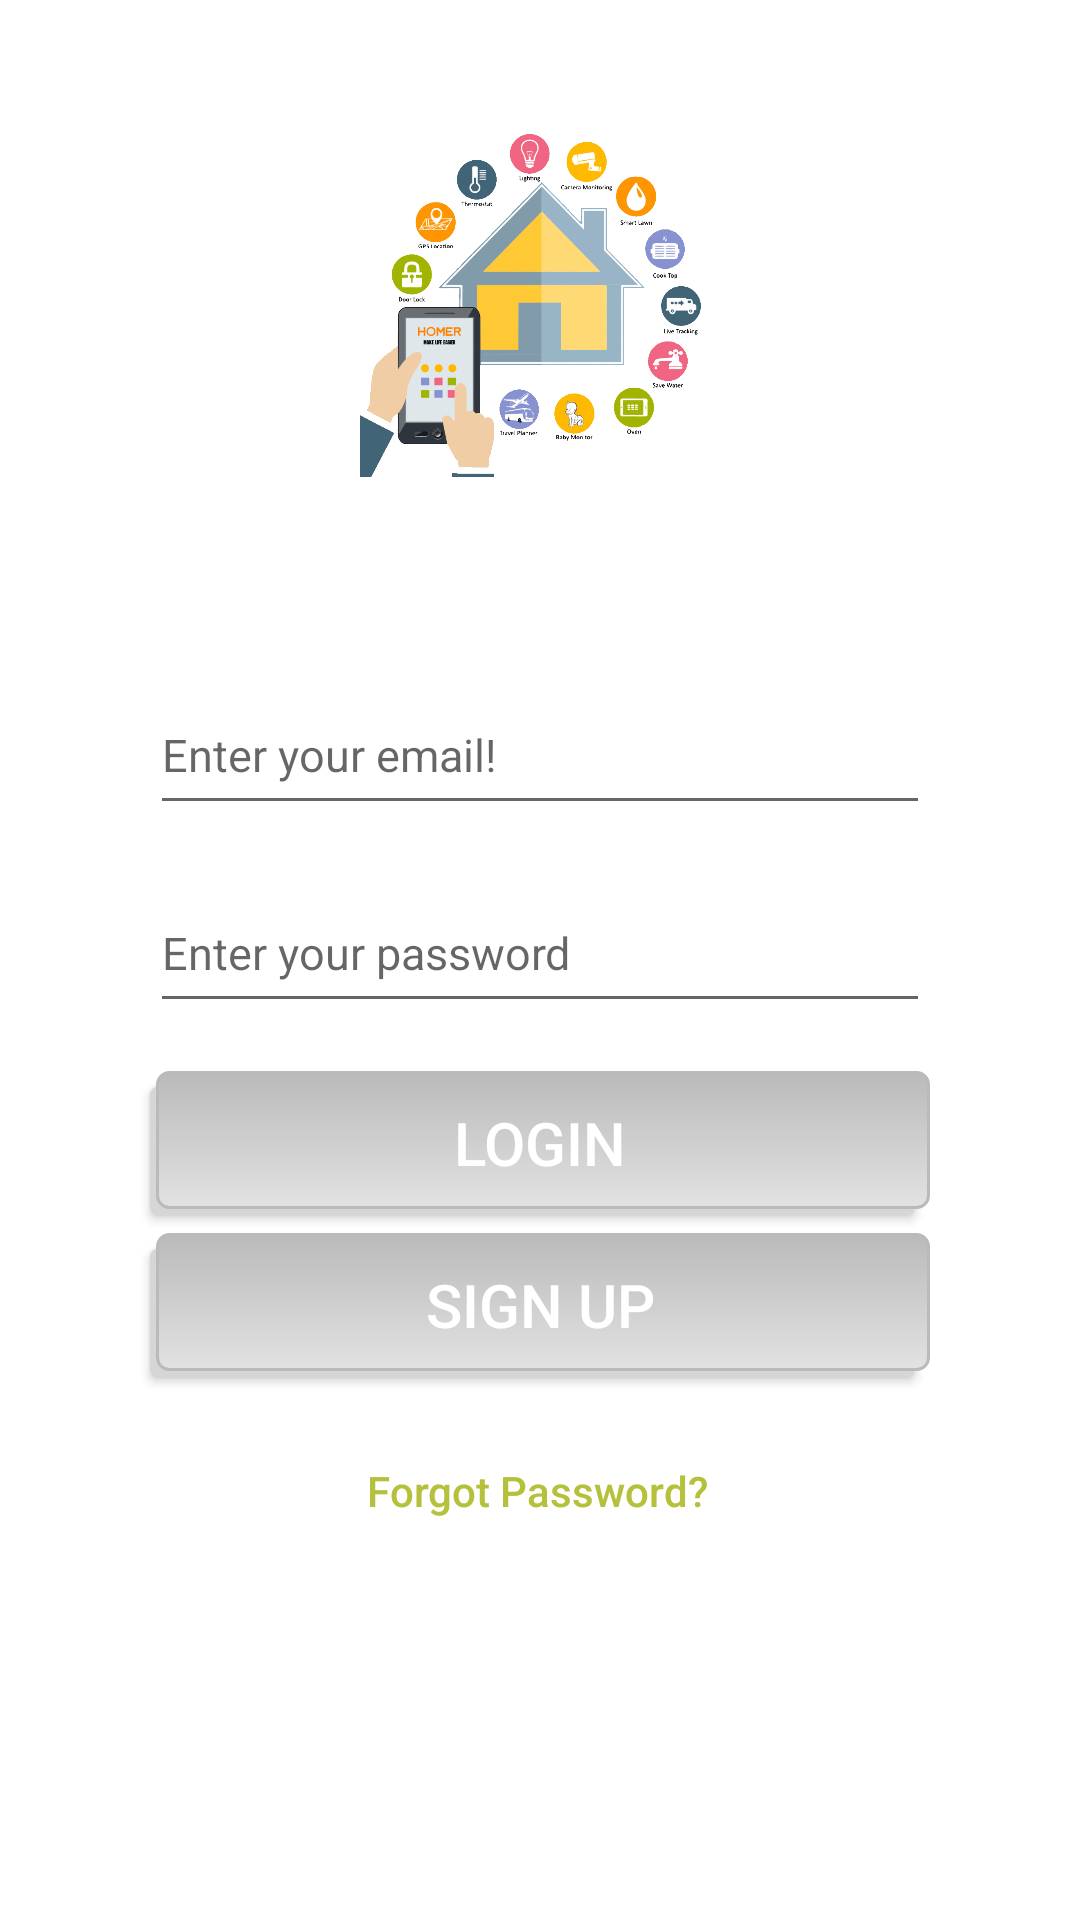

Where to tap for icons on this 1080 × 1920 app screen, as [x,y]:
smart home: [530,305]
